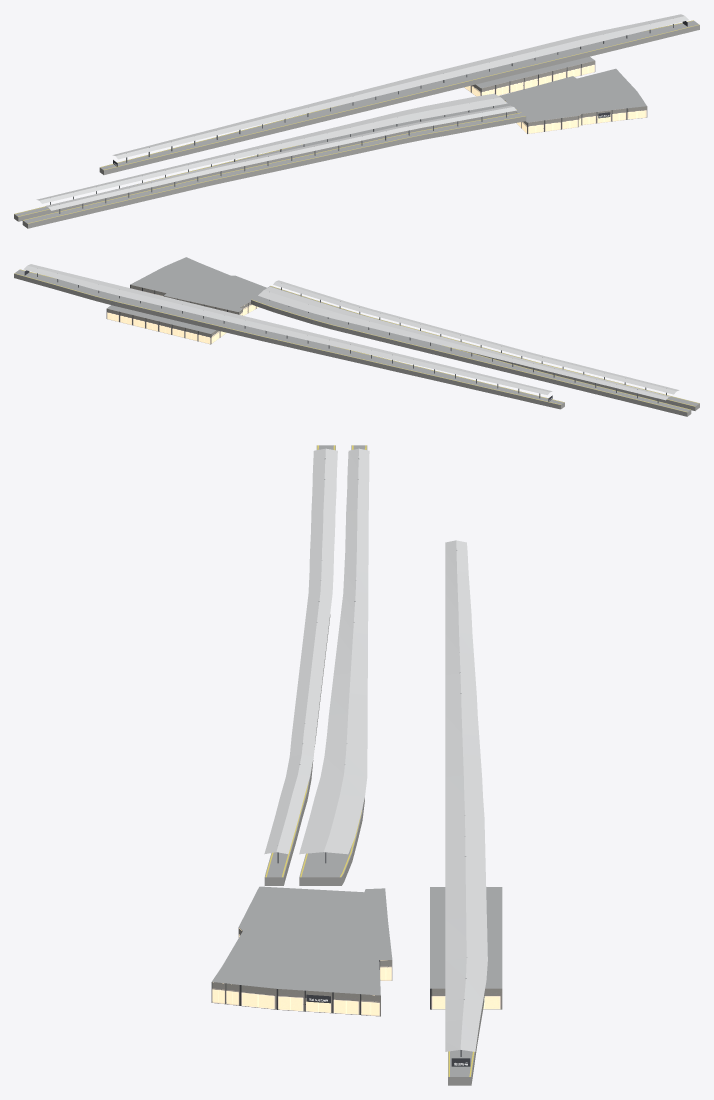
The model's file is takadanobaba_station.glb.
3 views of the same model, one above another, from view 1: azimuth 30°, elevation 25°; view 2: azimuth 150°, elevation 25°; view 3: azimuth 270°, elevation 25° (orthographic). The views are drawn at different scales.
Parts seen in each view (by area): view 1: TB_Station; view 2: TB_Station; view 3: TB_Station.
Boxes of the visible parts, <box> form: TB_Station: <box>14,14,699,228</box>; TB_Station: <box>14,257,699,416</box>; TB_Station: <box>211,445,502,1085</box>.
Size of the model in its own units: 310 by 10.9 by 60.3.
9 materials, 1 textured.
